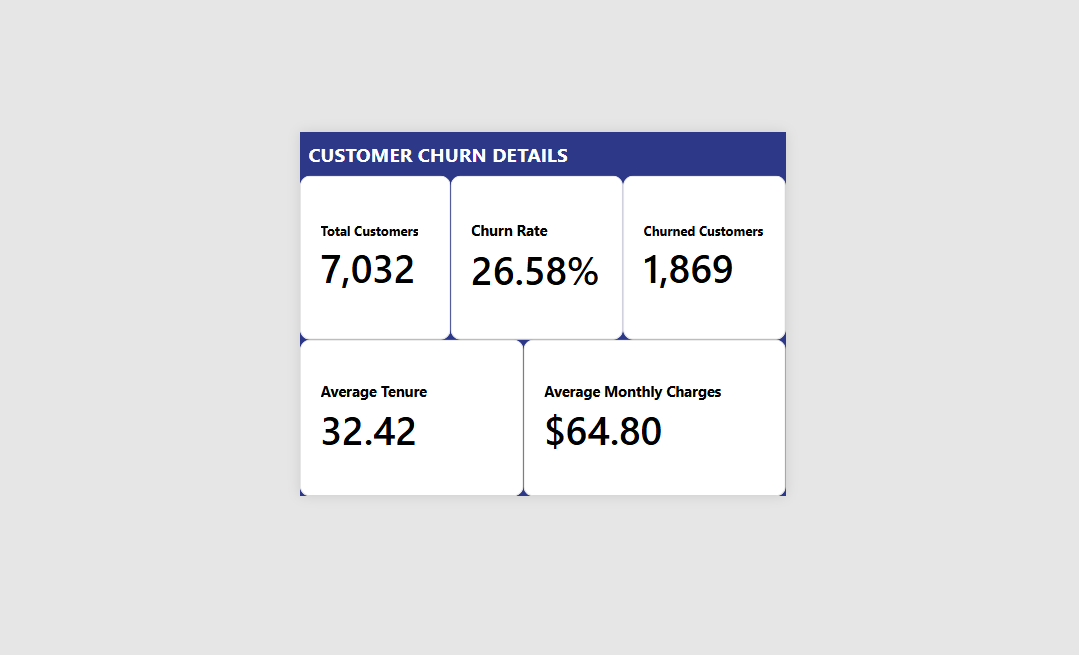

The dashboard page shown, as its layout file describes it:
{"tool":"powerbi","page":{"name":"CHURN TOOLTIP","canvas":[400,300],"ordinal":6},"visuals":[{"type":"cardVisual","fields":{"Data":["Telecom_Churn_Dataset.Churn Rate"]},"box":[124,36,142,135],"z":0},{"type":"cardVisual","fields":{"Data":["Telecom_Churn_Dataset.Total Customers"]},"box":[0,36,124,135],"z":1000},{"type":"cardVisual","fields":{"Data":["Telecom_Churn_Dataset.Churned Customers"]},"box":[266,36,134,135],"z":2000},{"type":"cardVisual","fields":{"Data":["Telecom_Churn_Dataset.Average Tenure"]},"box":[0,171,184,129],"z":3000},{"type":"cardVisual","fields":{"Data":["Telecom_Churn_Dataset.Average Monthly Charges"]},"box":[184,171,216,129],"z":4000},{"type":"textbox","box":[100,100,300,300],"z":5000},{"type":"textbox","box":[7,7,243,29],"z":6000}]}

Visuals, with their boxes on the page's 400x300 design canvas (x1, y1, x2, y2). These are canvas units, not pixel positions in the 1079x655 screenshot, which may show the page scaled, cropped or inside an application window:
cardVisual - Telecom_Churn_Dataset.Churn Rate: rect(124, 36, 266, 171)
cardVisual - Telecom_Churn_Dataset.Total Customers: rect(0, 36, 124, 171)
cardVisual - Telecom_Churn_Dataset.Churned Customers: rect(266, 36, 400, 171)
cardVisual - Telecom_Churn_Dataset.Average Tenure: rect(0, 171, 184, 300)
cardVisual - Telecom_Churn_Dataset.Average Monthly Charges: rect(184, 171, 400, 300)
textbox: rect(100, 100, 400, 400)
textbox: rect(7, 7, 250, 36)
